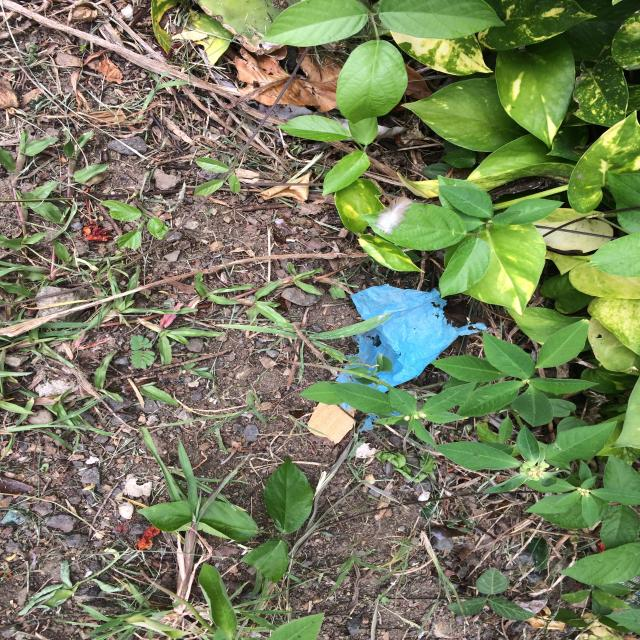litter: (324, 269, 488, 424)
